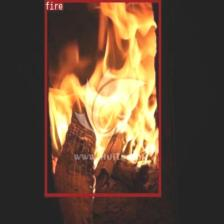fire: (44, 0, 160, 196)
